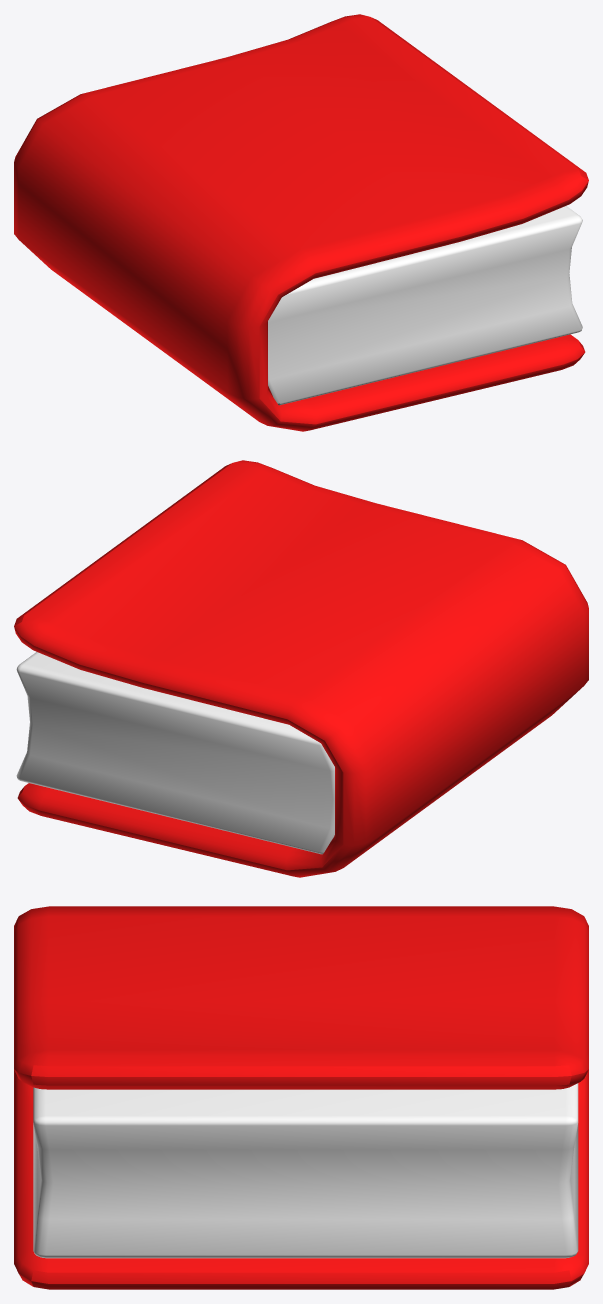
The model's file is SimpleBullet.FBX.
3 renders of one model, top to bottom at view 1: azimuth 30°, elevation 25°; view 2: azimuth 150°, elevation 25°; view 3: azimuth 270°, elevation 25°, orthographic. The views are drawn at different scales.
Parts seen in each view (by area): view 1: ChamferBox002; view 2: ChamferBox002; view 3: ChamferBox002.
Part boxes in pixels (<box>): ChamferBox002: <box>14,14,588,431</box>; ChamferBox002: <box>14,460,588,877</box>; ChamferBox002: <box>14,906,588,1289</box>.
Bounding box in the file's own units: 42.87 × 21.97 × 49.05.
